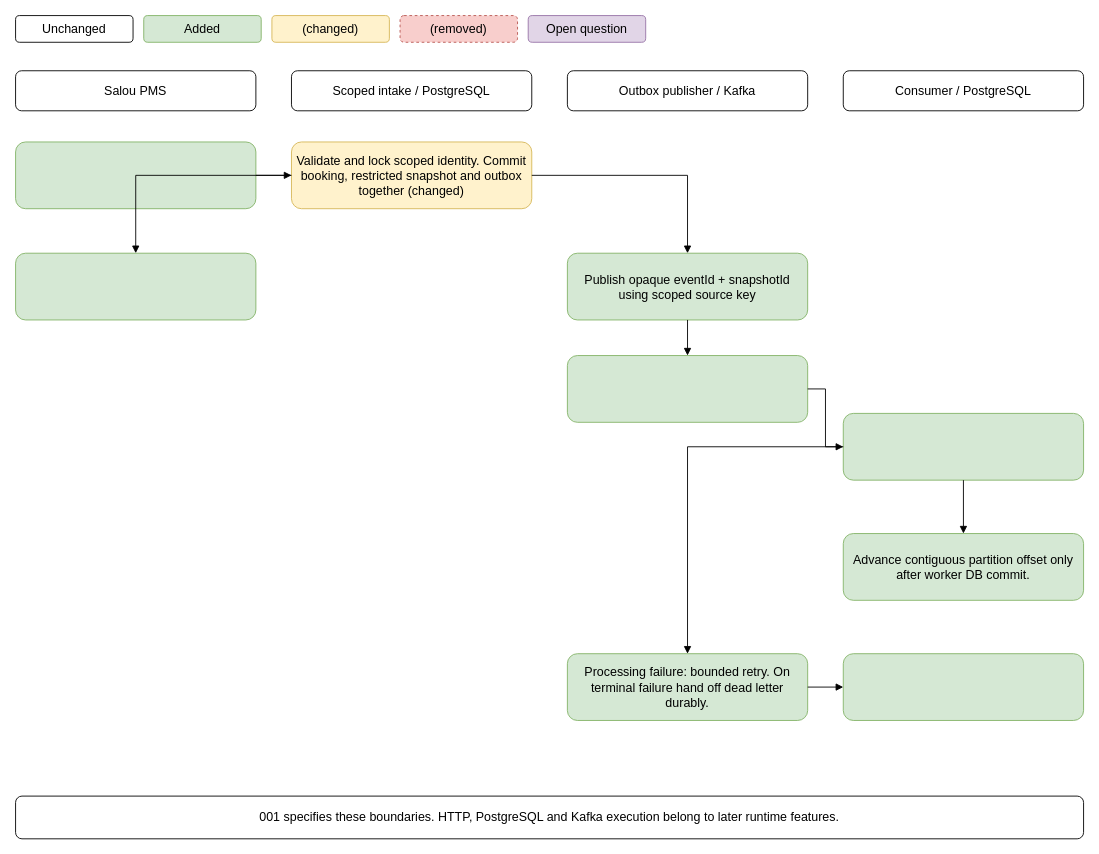
This 1099x854 diagram has some shape labels left out. Here are the shapes that lost their labels. From the top down, the centre of each, then its label:
the point at 135,175: POST or PUT full snapshot
the point at 135,286: HTTP success + mappings only after commit
the point at 687,388: Broker confirms publication. Publisher marks sent. Crash may repeat event.
the point at 963,446: Load exact scoped snapshot. Deduplicate effect, then commit worker transaction.
the point at 963,686: After durable dead letter, advance only past completed work.
